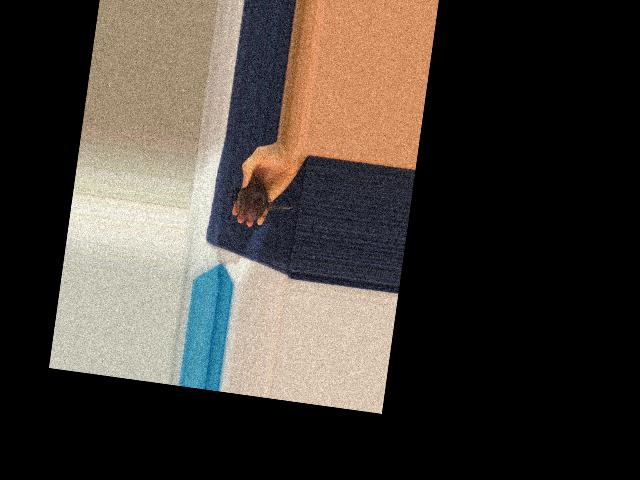beet: (229, 178, 298, 227)
